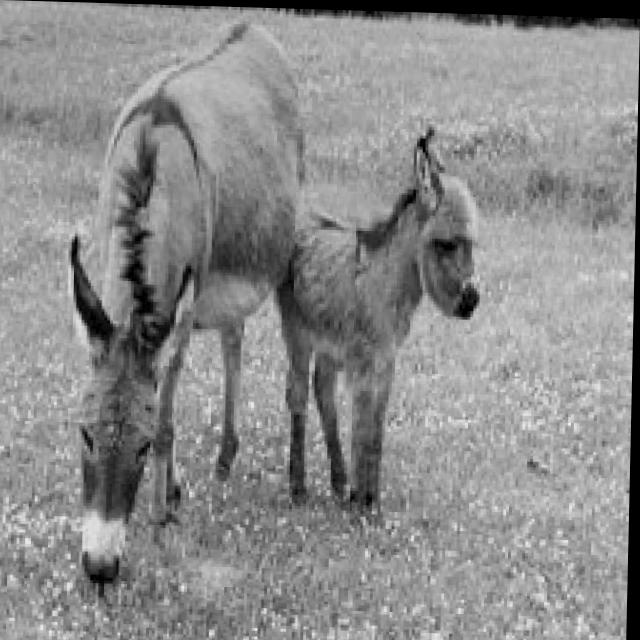Donkey: (58, 11, 308, 603), (269, 120, 483, 523)
